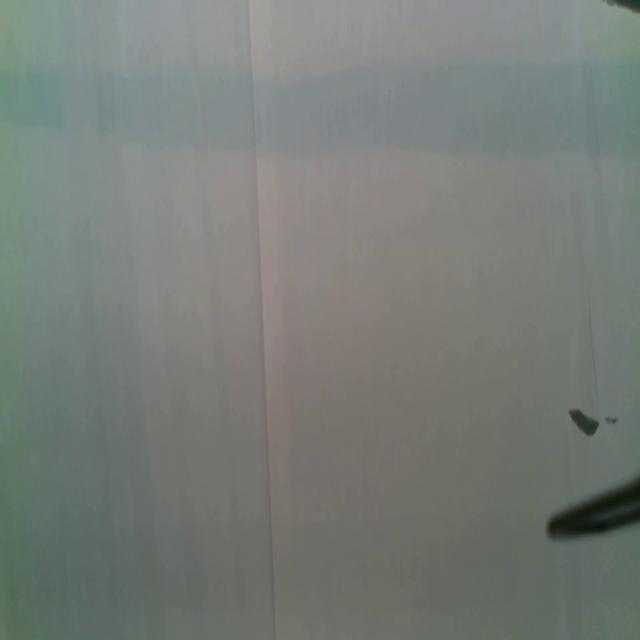color bleeding: (0, 48, 640, 164)
crease: (246, 0, 294, 640)
hole: (570, 405, 600, 436), (604, 413, 619, 428)
